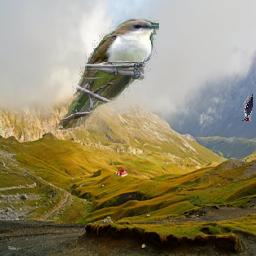Cuckoo: (55, 17, 160, 131)
Woodpecker: (241, 93, 253, 121)
